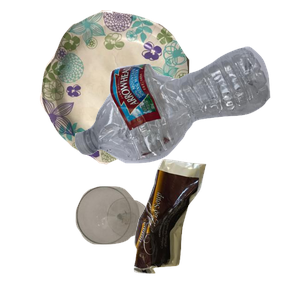glass: (73, 184, 214, 300)
paper: (37, 10, 219, 167)
plastic: (72, 44, 300, 200)
trash: (131, 157, 300, 300)
